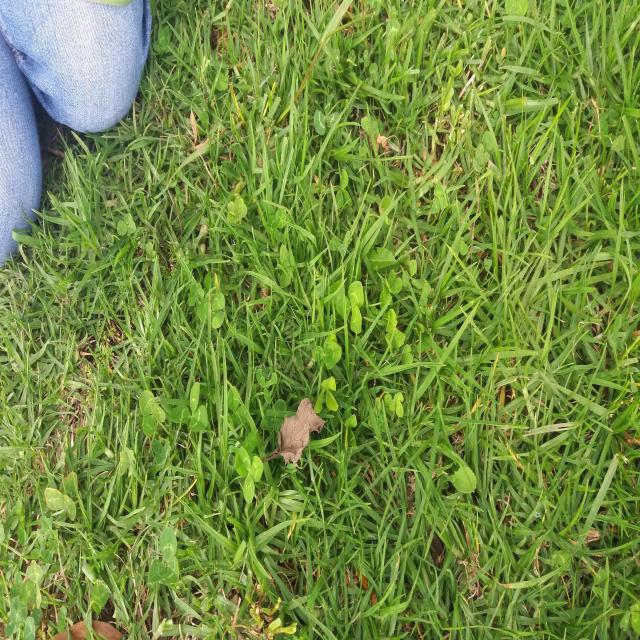Four Leaf Clover: (312, 333, 342, 369), (227, 196, 247, 223)
